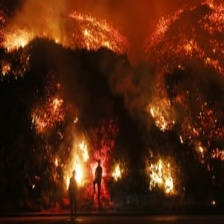fire: (62, 2, 132, 55), (29, 89, 74, 132), (61, 143, 100, 191), (148, 153, 180, 199), (146, 92, 178, 134), (1, 21, 40, 54)
